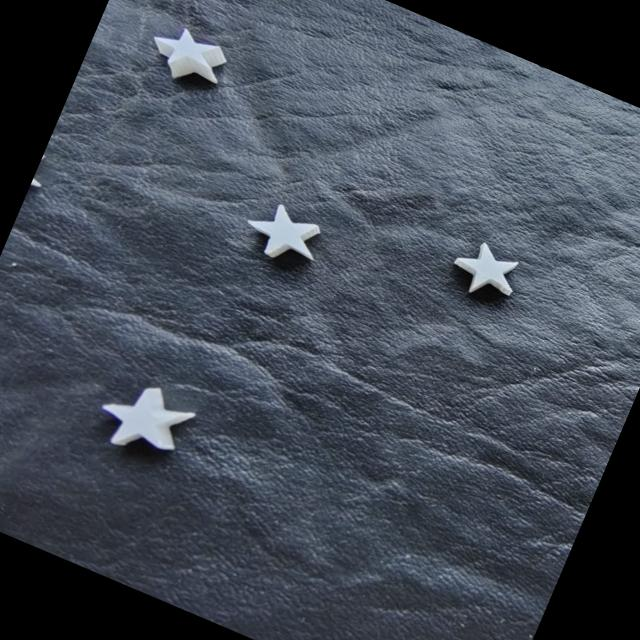estrellas: (105, 391, 184, 446), (247, 204, 308, 255), (455, 243, 517, 291), (155, 29, 219, 67)
